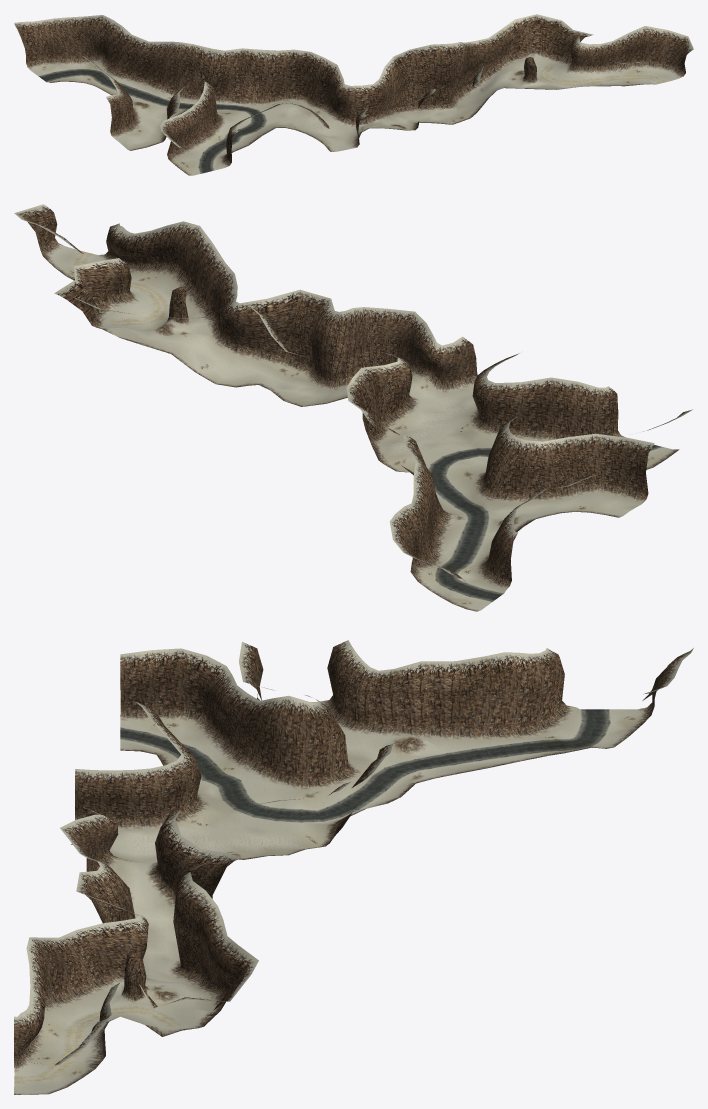
The picture shows the model from 3 angles, top to bottom: view 1: azimuth 30°, elevation 25°; view 2: azimuth 150°, elevation 25°; view 3: azimuth 270°, elevation 25°; orthographic projection. The views are drawn at different scales.
Visible parts, largest first — view 1: M09_Z04_01115, M09_Z04_01239, M09_Z04_01221, M09_Z04_01140, M09_Z04_01141, M09_Z04_01210, M09_Z04_01252, M09_Z04_01040, M09_Z04_01230, M09_Z04_01276, M09_Z04_01264, M09_Z04_01209 (+54 smaller); view 2: M09_Z04_01203, M09_Z04_01057, M09_Z04_01054, M09_Z04_01027, M09_Z04_01102, M09_Z04_01174, M09_Z04_01072, M09_Z04_01136, M09_Z04_01088, M09_Z04_01002, M09_Z04_01189, M09_Z04_01073 (+30 smaller); view 3: M09_Z04_01192, M09_Z04_01097, M09_Z04_01242, M09_Z04_01235, M09_Z04_01225, M09_Z04_01255, M09_Z04_01249, M09_Z04_01116, M09_Z04_01177, M09_Z04_01105, M09_Z04_01069, M09_Z04_01076 (+35 smaller).
Part boxes in pixels (x1=…): M09_Z04_01115: x1=433, y1=43, x2=466, y2=111; M09_Z04_01239: x1=171, y1=53, x2=196, y2=98; M09_Z04_01221: x1=236, y1=52, x2=265, y2=98; M09_Z04_01140: x1=399, y1=53, x2=419, y2=112; M09_Z04_01141: x1=410, y1=44, x2=436, y2=107; M09_Z04_01210: x1=265, y1=49, x2=294, y2=99; M09_Z04_01252: x1=134, y1=45, x2=164, y2=89; M09_Z04_01040: x1=629, y1=26, x2=661, y2=72; M09_Z04_01230: x1=194, y1=54, x2=223, y2=101; M09_Z04_01276: x1=84, y1=15, x2=112, y2=62; M09_Z04_01264: x1=104, y1=36, x2=139, y2=80; M09_Z04_01209: x1=251, y1=60, x2=279, y2=105; M09_Z04_01203: x1=490, y1=436, x2=554, y2=498; M09_Z04_01057: x1=265, y1=295, x2=312, y2=375; M09_Z04_01054: x1=326, y1=316, x2=371, y2=391; M09_Z04_01027: x1=353, y1=309, x2=410, y2=373; M09_Z04_01102: x1=515, y1=383, x2=551, y2=441; M09_Z04_01174: x1=569, y1=439, x2=621, y2=495; M09_Z04_01072: x1=575, y1=387, x2=609, y2=435; M09_Z04_01136: x1=374, y1=361, x2=418, y2=421; M09_Z04_01088: x1=209, y1=299, x2=254, y2=369; M09_Z04_01002: x1=144, y1=221, x2=183, y2=277; M09_Z04_01189: x1=526, y1=437, x2=576, y2=495; M09_Z04_01073: x1=549, y1=381, x2=597, y2=438; M09_Z04_01192: x1=276, y1=713, x2=326, y2=791; M09_Z04_01097: x1=151, y1=662, x2=203, y2=728; M09_Z04_01242: x1=422, y1=674, x2=486, y2=740; M09_Z04_01235: x1=393, y1=677, x2=455, y2=740; M09_Z04_01225: x1=370, y1=678, x2=423, y2=736; M09_Z04_01255: x1=486, y1=671, x2=538, y2=741; M09_Z04_01249: x1=455, y1=675, x2=508, y2=740; M09_Z04_01116: x1=167, y1=872, x2=205, y2=987; M09_Z04_01177: x1=248, y1=696, x2=288, y2=777; M09_Z04_01105: x1=156, y1=760, x2=203, y2=830; M09_Z04_01069: x1=121, y1=665, x2=183, y2=731; M09_Z04_01076: x1=121, y1=765, x2=175, y2=830.
Size of the model in its own units: 264 by 30.88 by 179.
Materials: 17 (17 with a texture image).
